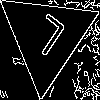L: (22, 12, 68, 66)
